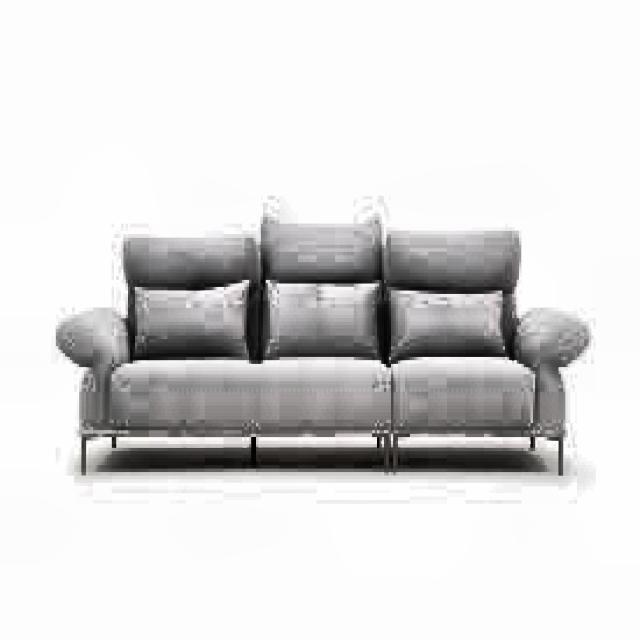sofa: (58, 217, 575, 486)
